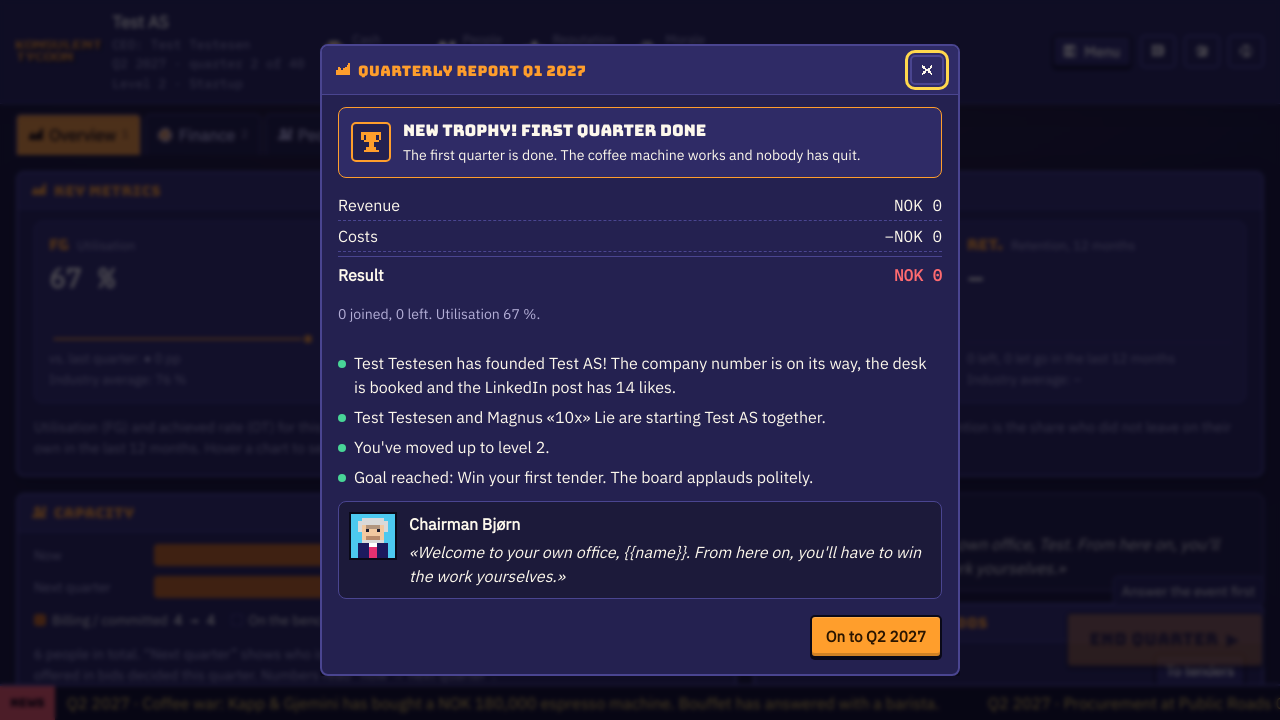
it: levels in the shell › celebrates a new level once the quarter report is closed
Click the button "On to Q2 2027".
click(876, 636)  # box top-left (810, 615), bottom-right (942, 658)
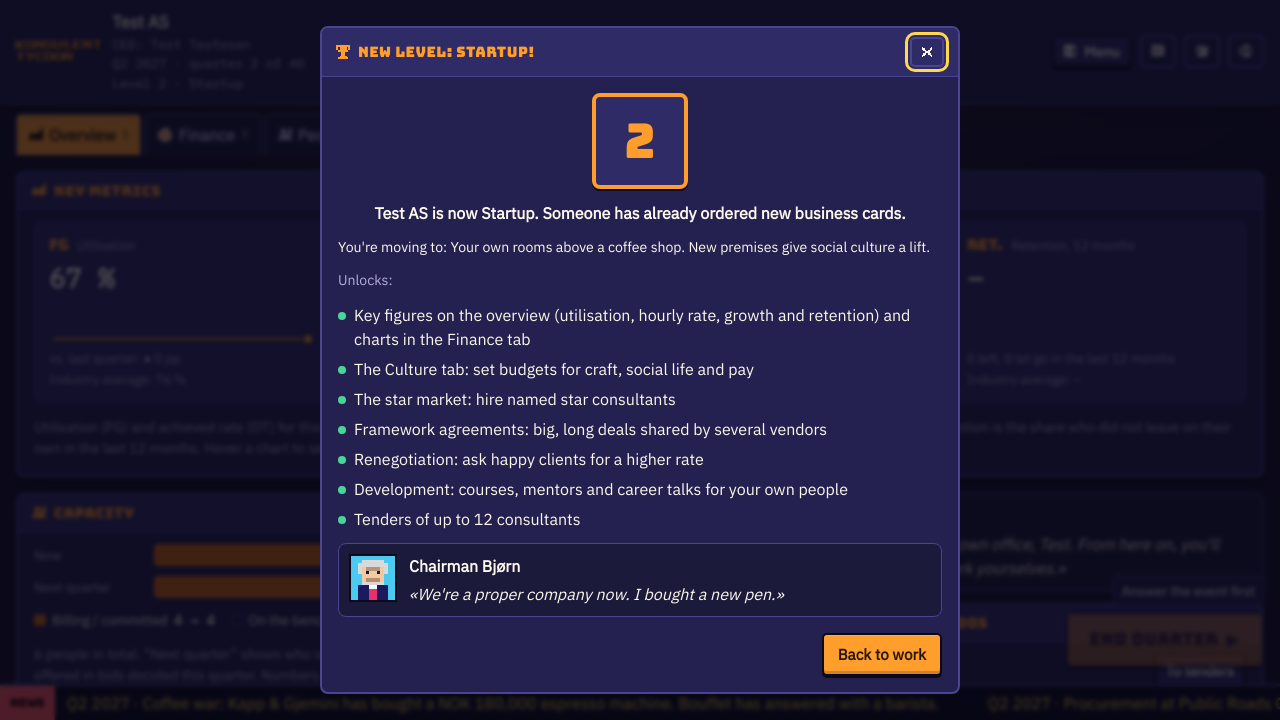
Expected: the text "The Culture tab: set budgets for craft, social life and pay" is shown, top-left (354, 357), bottom-right (754, 381)
Click the button "Back to work".
click(882, 655)  # box top-left (822, 633), bottom-right (942, 676)
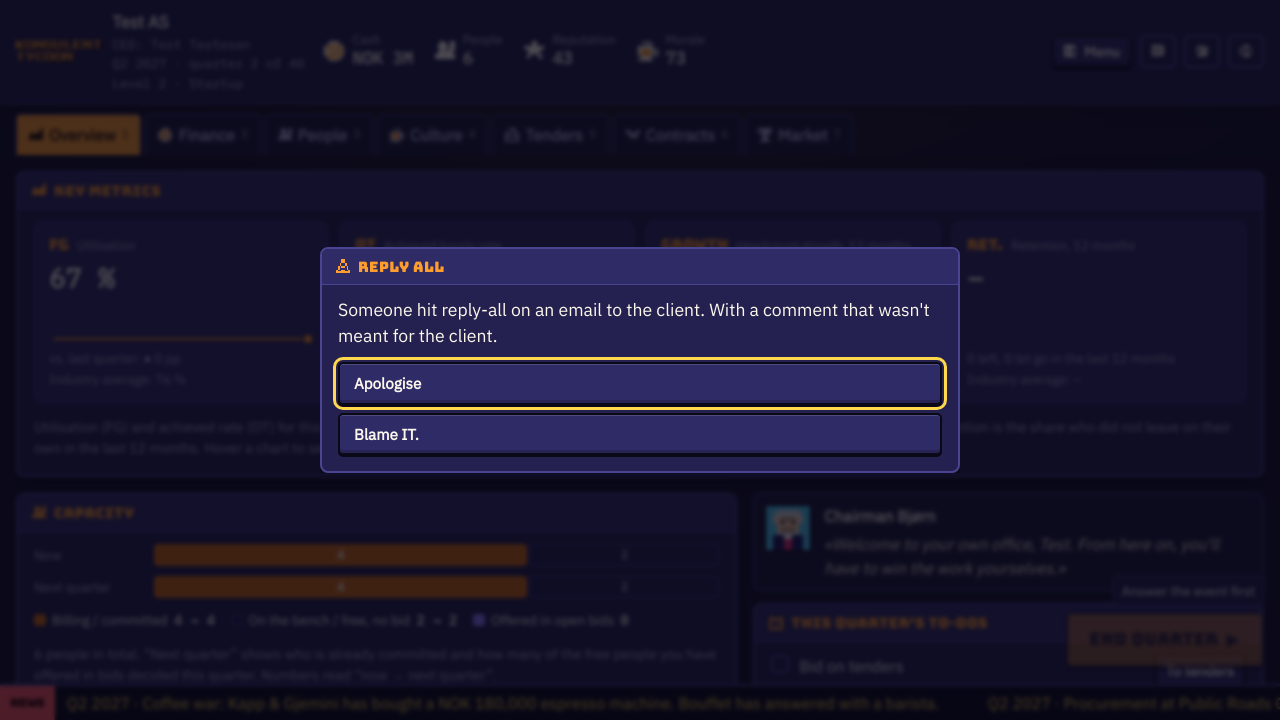
Expected: the heading "New level" is gone
